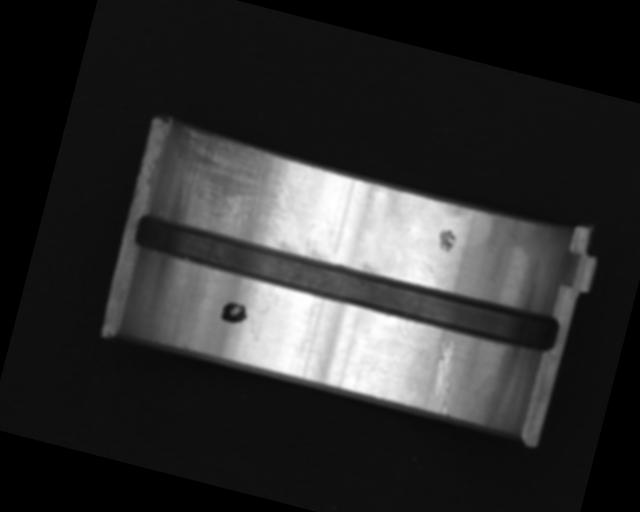blot: (217, 298, 252, 327)
bruise: (433, 225, 461, 256)
gap: (128, 208, 563, 358)
nick: (421, 337, 466, 419)
scratch: (153, 121, 318, 255)
